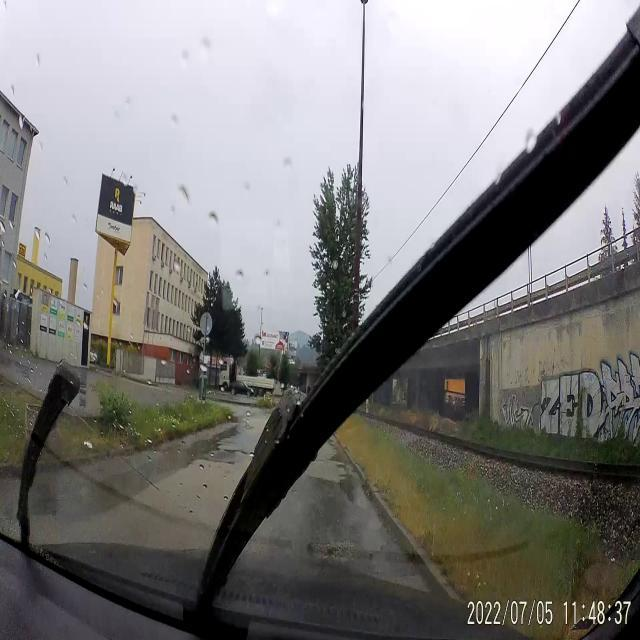Pothole: (217, 438, 252, 462)
